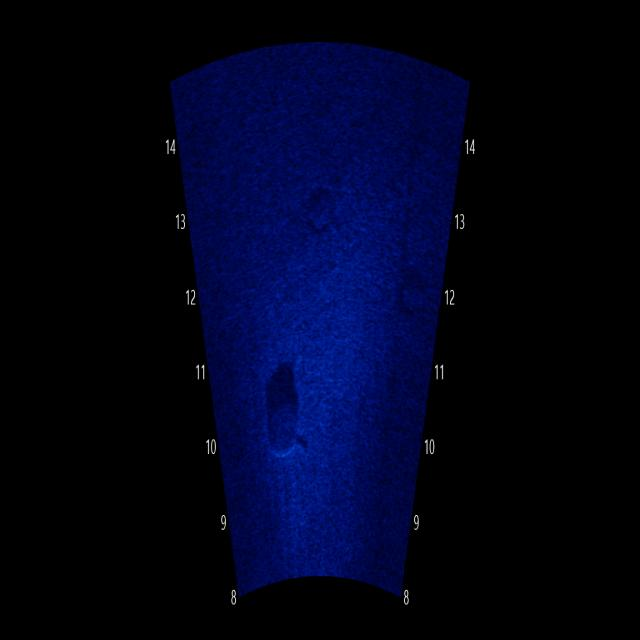circle: (257, 340, 324, 477)
